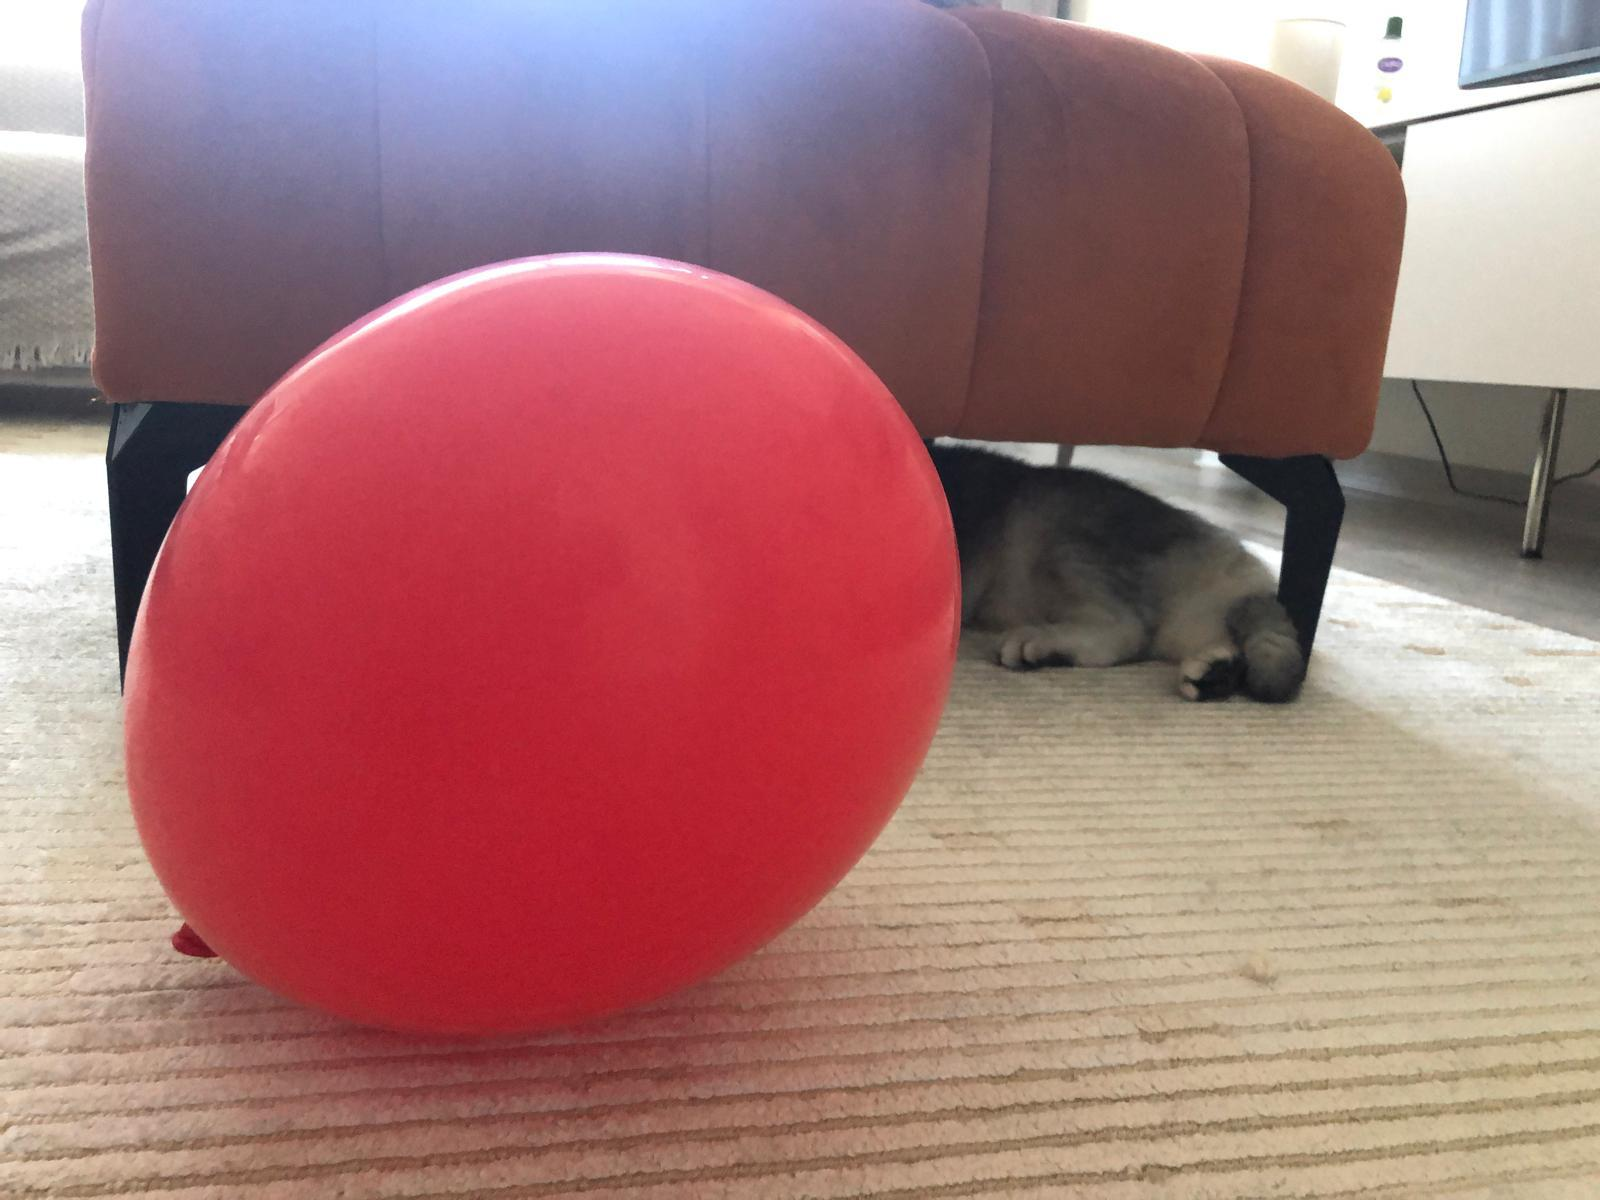red: (116, 253, 969, 1046)
